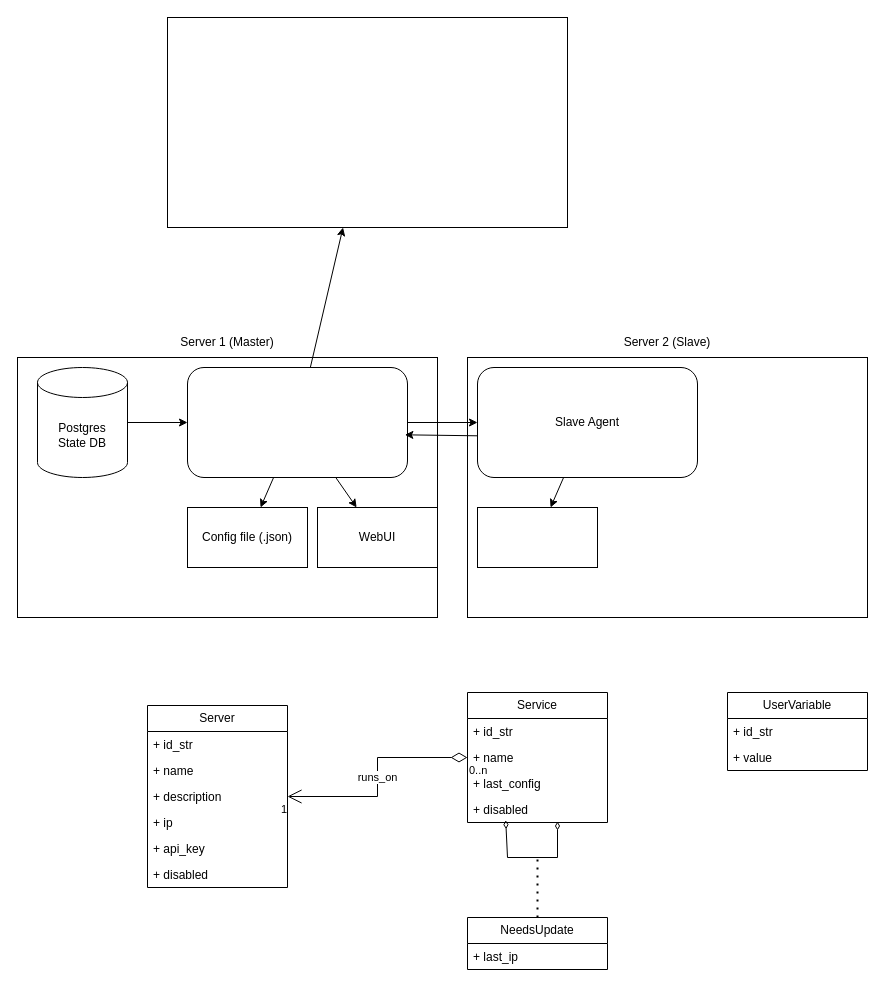
Some shapes in this 885 by 990 pixel diagram are drawn without their labels. The shapes that lost their labels are listed below. From the top down, each one's centre as x and y in pixels, then its label:
the point at 297,422: Master Server
the point at 537,537: docker compose
